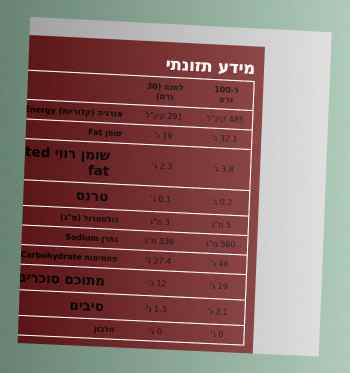carbs: (209, 257, 230, 270)
energy: (205, 112, 245, 126)
fat: (210, 132, 239, 145)
protein: (209, 328, 225, 340)
